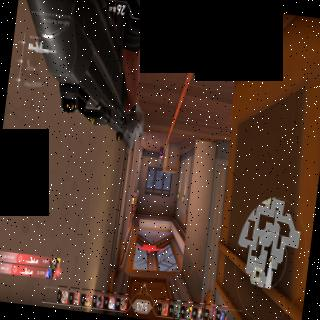ENEMY-BODY: (158, 146, 164, 162)
ENEMY-HEAD: (160, 158, 162, 160)
